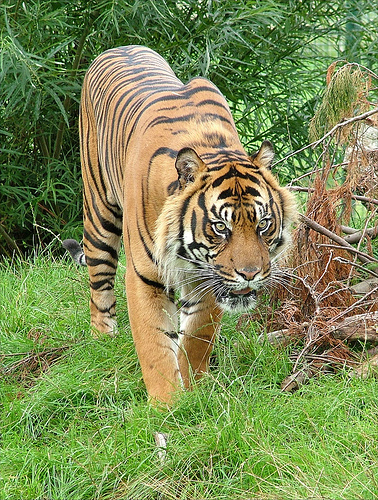Tigre: (52, 32, 309, 403)
